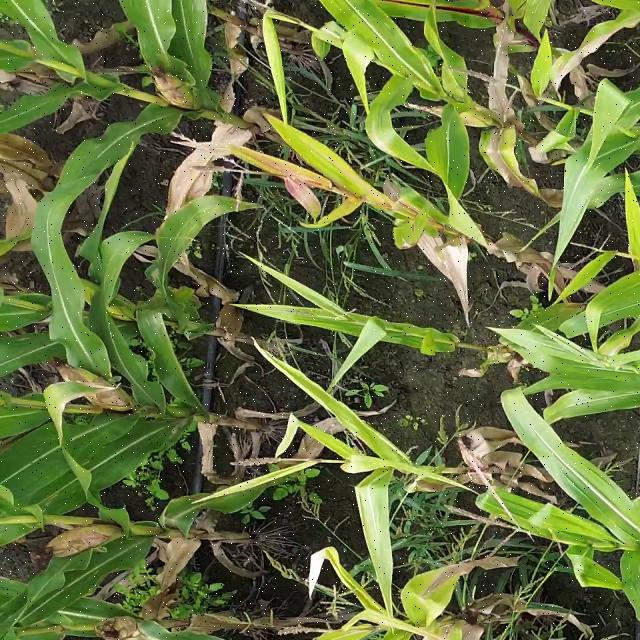gray-leaf-spot: (180, 1, 212, 66), (581, 390, 640, 406), (140, 307, 162, 345), (102, 249, 122, 286), (600, 337, 632, 356)
northern-leaf-blight: (482, 129, 531, 178), (335, 164, 385, 202), (558, 34, 602, 74), (391, 188, 438, 224), (254, 154, 310, 184), (417, 568, 456, 606), (364, 124, 397, 154)
